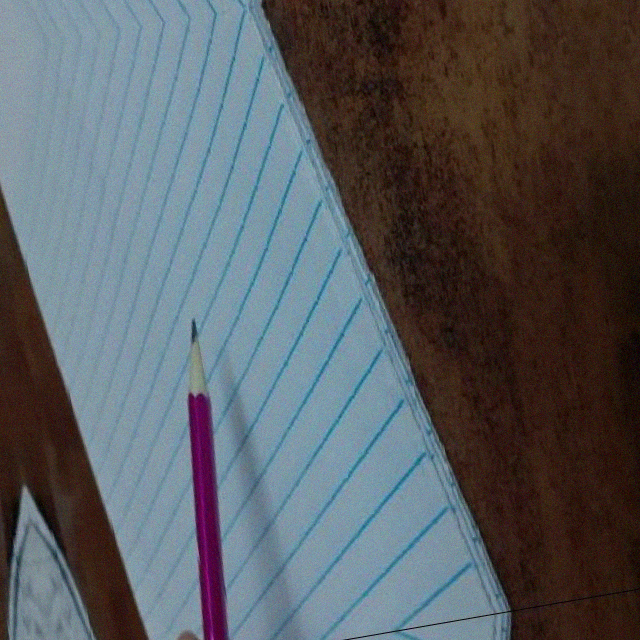pencil: (169, 314, 215, 398)
